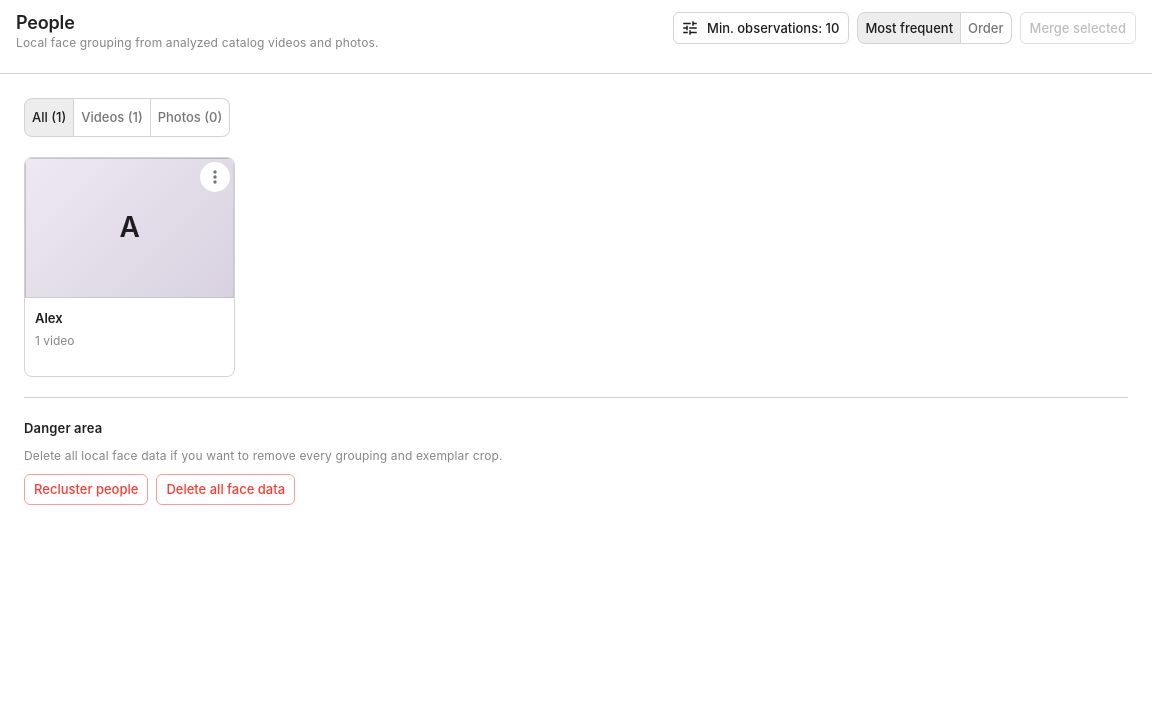
Test: PeopleView › keeps the destructive delete action off the card face, behind an overflow menu
Expected: the element with test id "people-grid" is shown, [24, 157, 235, 377]
Click the button named "More actions for Alex".
click(215, 177)  # box [200, 162, 230, 192]
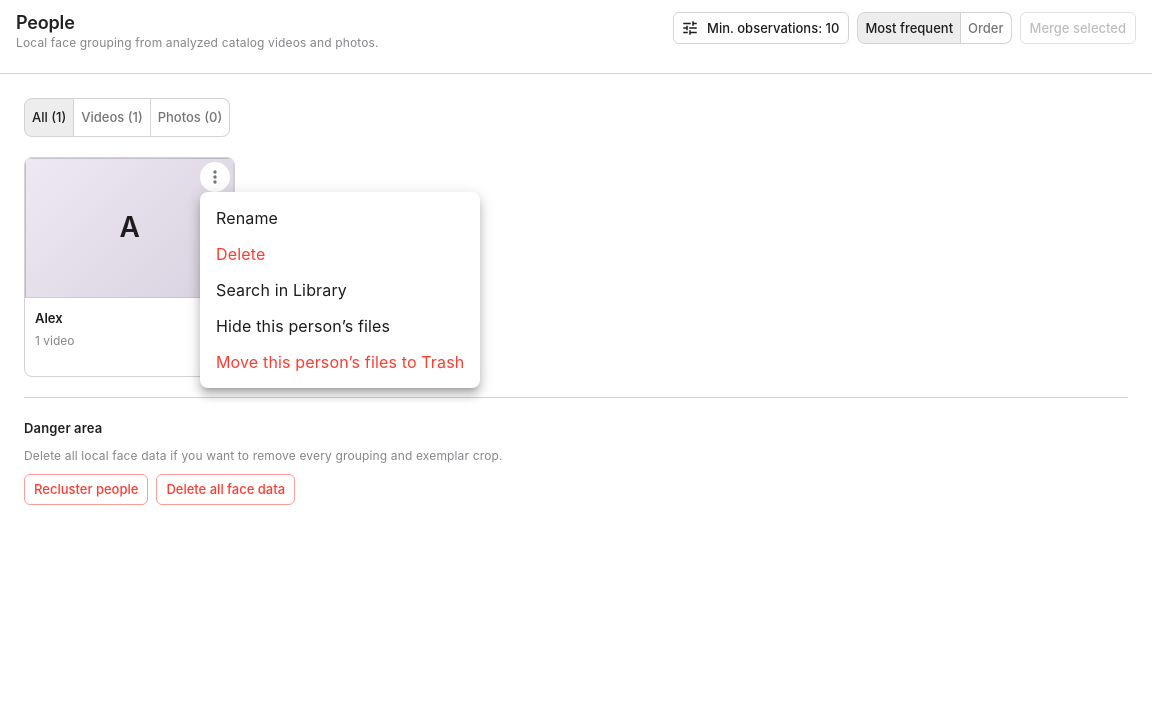
Expected: the menu item with test id "people-forget" is shown, [216, 244, 265, 264]
Expected: the menu item with test id "people-rename" is shown, [216, 208, 278, 228]
